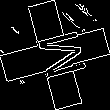M_W: (25, 26, 85, 84)
